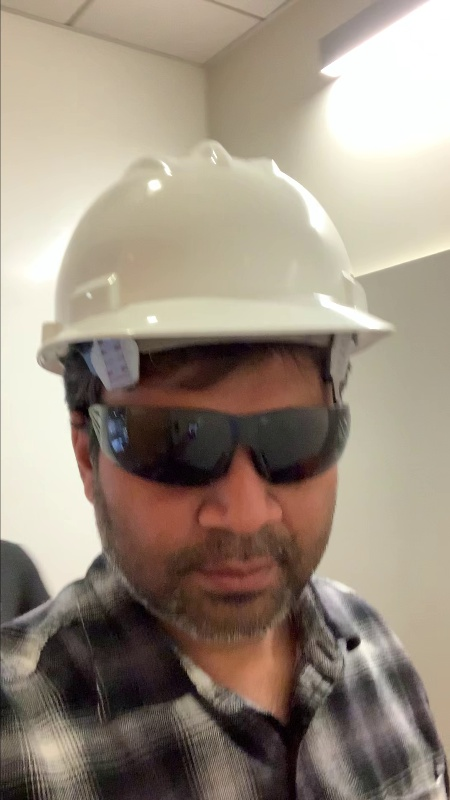glasses: (92, 397, 349, 492)
helmet: (29, 130, 396, 372)
